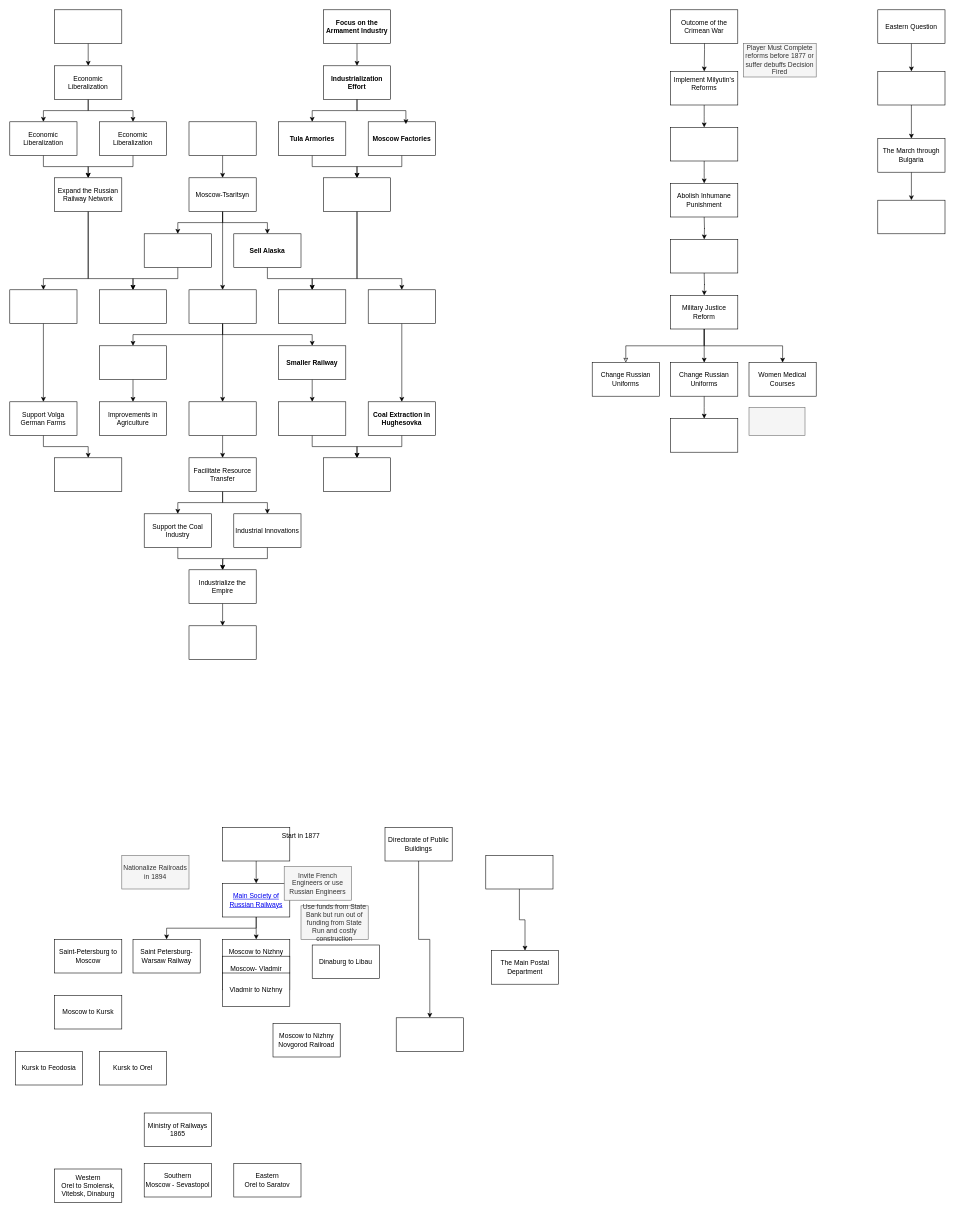
The diagram is 955 pixels wide and 1212 high, and some of its shapes have lost their labels. Here are the shapes that lost their labels. From the top down, the centre of each, then its label:
point 88,26: Enact Radical Economic Reforms
point 911,88: Support Our Friends in the Balkans
point 222,138: Finish the Warsaw-Petersburg
point 704,144: Dissolve Cantonists
point 357,194: Expand Yekaterinburg's Mines
point 911,217: Outcome of the Russo-Turkish War
point 177,250: Support the Governate of Alaska
point 704,256: Prussian Military Staff Visit
point 43,306: Encourage Capitalism
point 133,306: Alaska Gold Rush
point 222,306: Construct Western Railways
point 312,306: Invest in the Navy
point 401,306: Support Russian Trade
point 133,362: Moscow Railway
point 222,418: Oil Extraction in Baku
point 312,418: Improve Mining Techniques
point 704,435: Victorian Conscription of 1874
point 776,421: Available in 1874
point 88,474: Factories in Tsaritsyn
point 357,474: Factories in Warsaw
point 222,642: The Vistulan Railway
point 256,844: Directorate of Communications
point 519,872: Telegraph
point 429,1034: Minstry of Internal Affairs
